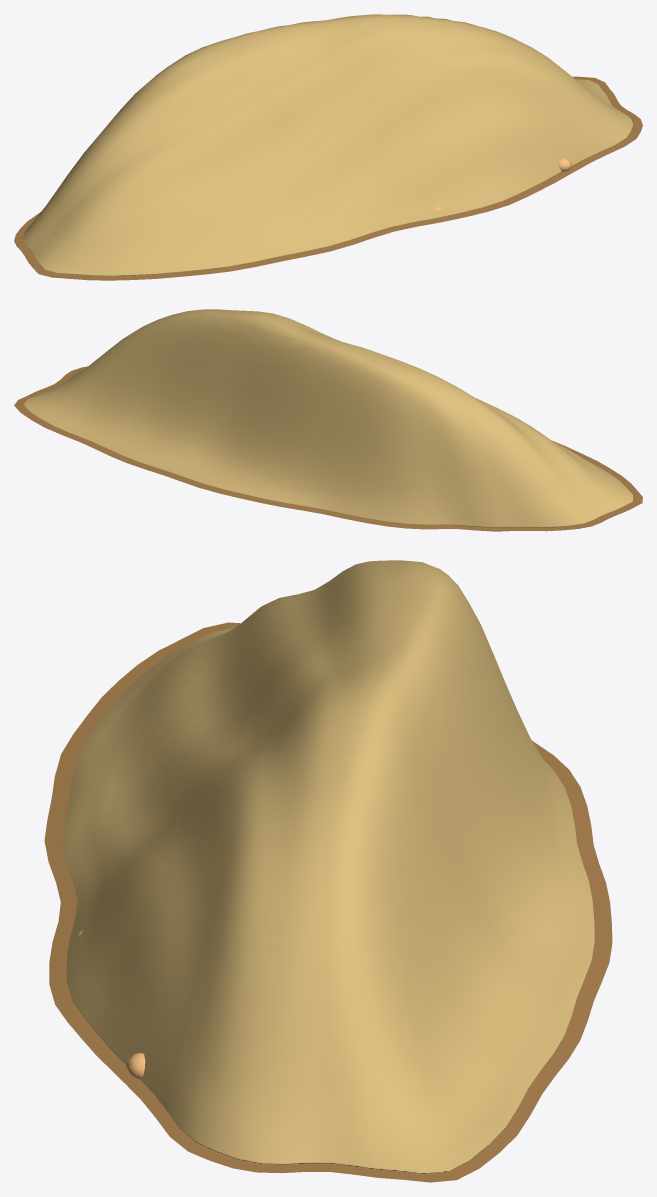
File: detail_sand_dune.glb
3 views of the same model, one above another, from view 1: azimuth 30°, elevation 25°; view 2: azimuth 150°, elevation 25°; view 3: azimuth 270°, elevation 25° (orthographic). The views are drawn at different scales.
Visible parts, largest first — view 1: plaster; view 2: plaster; view 3: plaster.
Boxes of the visible parts, box(x1,y1,x2,y2) form: plaster: box(14, 14, 642, 280); plaster: box(14, 309, 642, 531); plaster: box(44, 560, 612, 1182).
Bounding box in the file's own units: 1.4 × 0.3 × 0.6.
